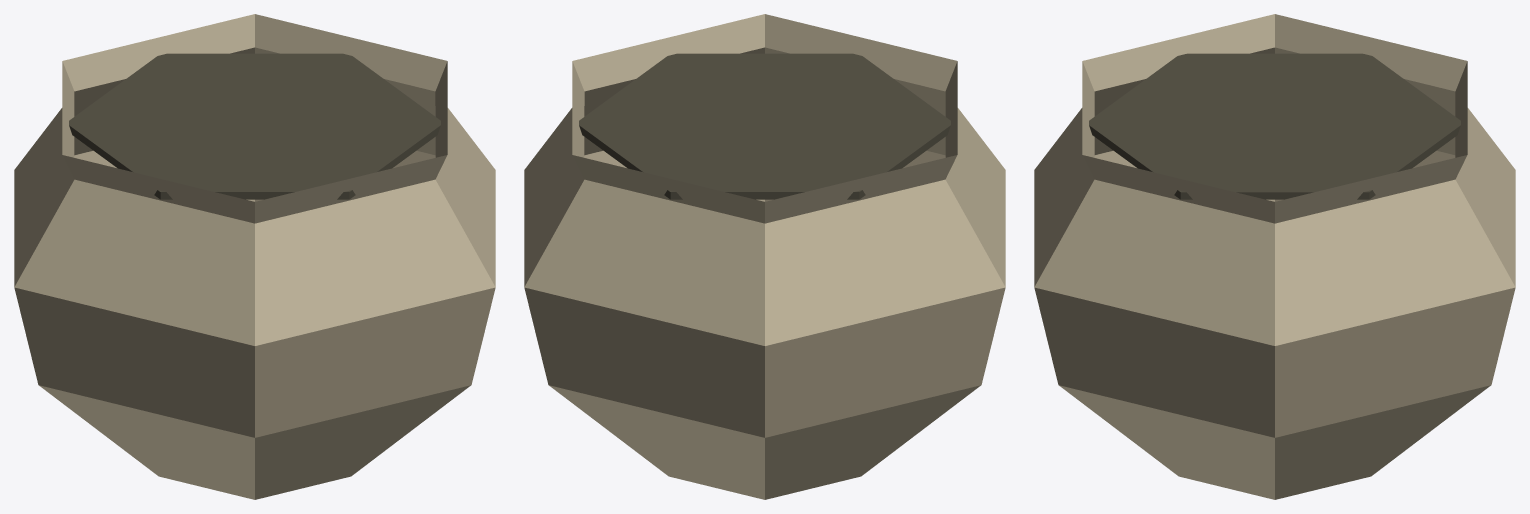
File: vase-17.glb
3 views of the same model, side by side, from view 1: azimuth 30°, elevation 25°; view 2: azimuth 150°, elevation 25°; view 3: azimuth 270°, elevation 25° (orthographic).
Parts seen in each view (by area): view 1: vase_17; view 2: vase_17; view 3: vase_17.
Boxes of the visible parts, left/top/right/bottom form: vase_17: left=14, top=14, right=495, bottom=499; vase_17: left=524, top=14, right=1005, bottom=499; vase_17: left=1034, top=14, right=1515, bottom=499.
Size of the model in its own units: 0.2677 by 0.1834 by 0.2319.
